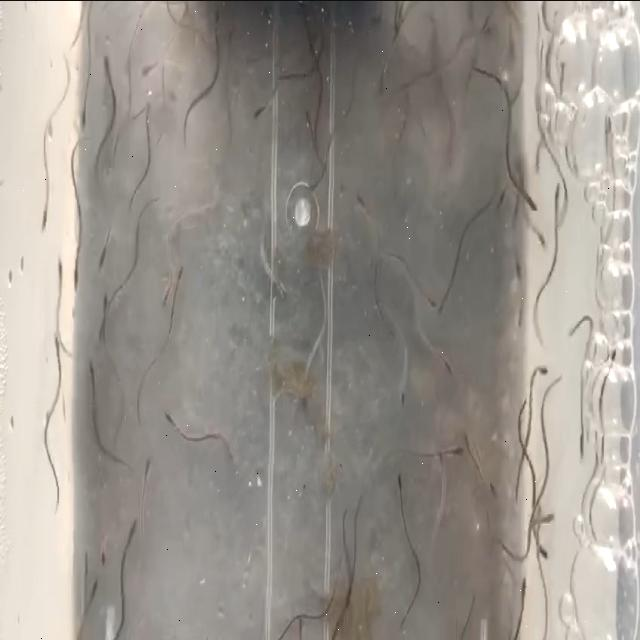active_glass_eel: (154, 272, 172, 327), (83, 338, 98, 393), (97, 284, 111, 338), (484, 471, 506, 505), (420, 284, 440, 321), (394, 364, 410, 410), (96, 226, 110, 278), (352, 185, 374, 218), (531, 525, 551, 561), (556, 174, 570, 224), (40, 191, 52, 248), (84, 564, 100, 606), (72, 250, 83, 308), (170, 258, 185, 300), (511, 251, 529, 285), (50, 326, 64, 368), (534, 226, 551, 260), (142, 446, 154, 493), (393, 472, 409, 507), (436, 440, 450, 480), (124, 518, 140, 550), (516, 574, 531, 608), (52, 260, 66, 296), (102, 44, 114, 86), (522, 187, 542, 212), (76, 94, 88, 134), (550, 178, 562, 218), (139, 54, 153, 88), (446, 436, 464, 462), (272, 276, 290, 301), (438, 346, 453, 376), (99, 534, 113, 566), (164, 402, 180, 430), (577, 423, 585, 472), (251, 97, 267, 121), (530, 360, 548, 380), (144, 86, 156, 115), (212, 0, 224, 29), (163, 84, 177, 104), (542, 506, 556, 526)
